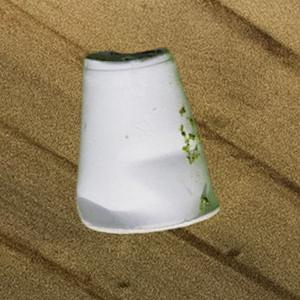cup: (74, 49, 223, 233)
